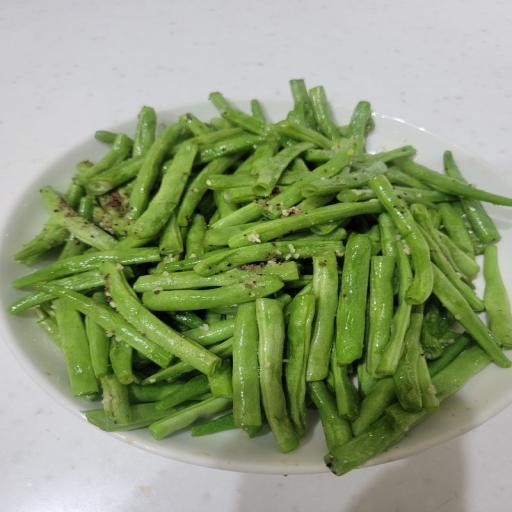buncis_rebus: (15, 69, 509, 483)
